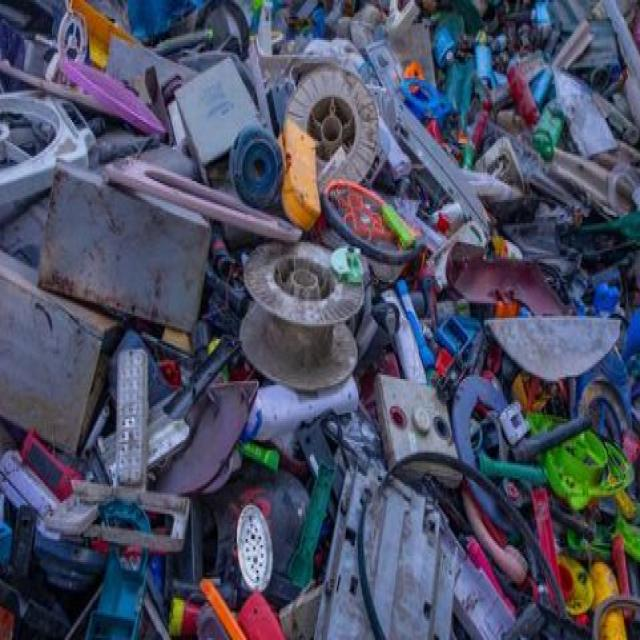electronic: (0, 0, 639, 638), (34, 144, 226, 348), (232, 230, 398, 422), (140, 55, 314, 221), (276, 56, 421, 254), (368, 85, 504, 252), (367, 360, 497, 510)
